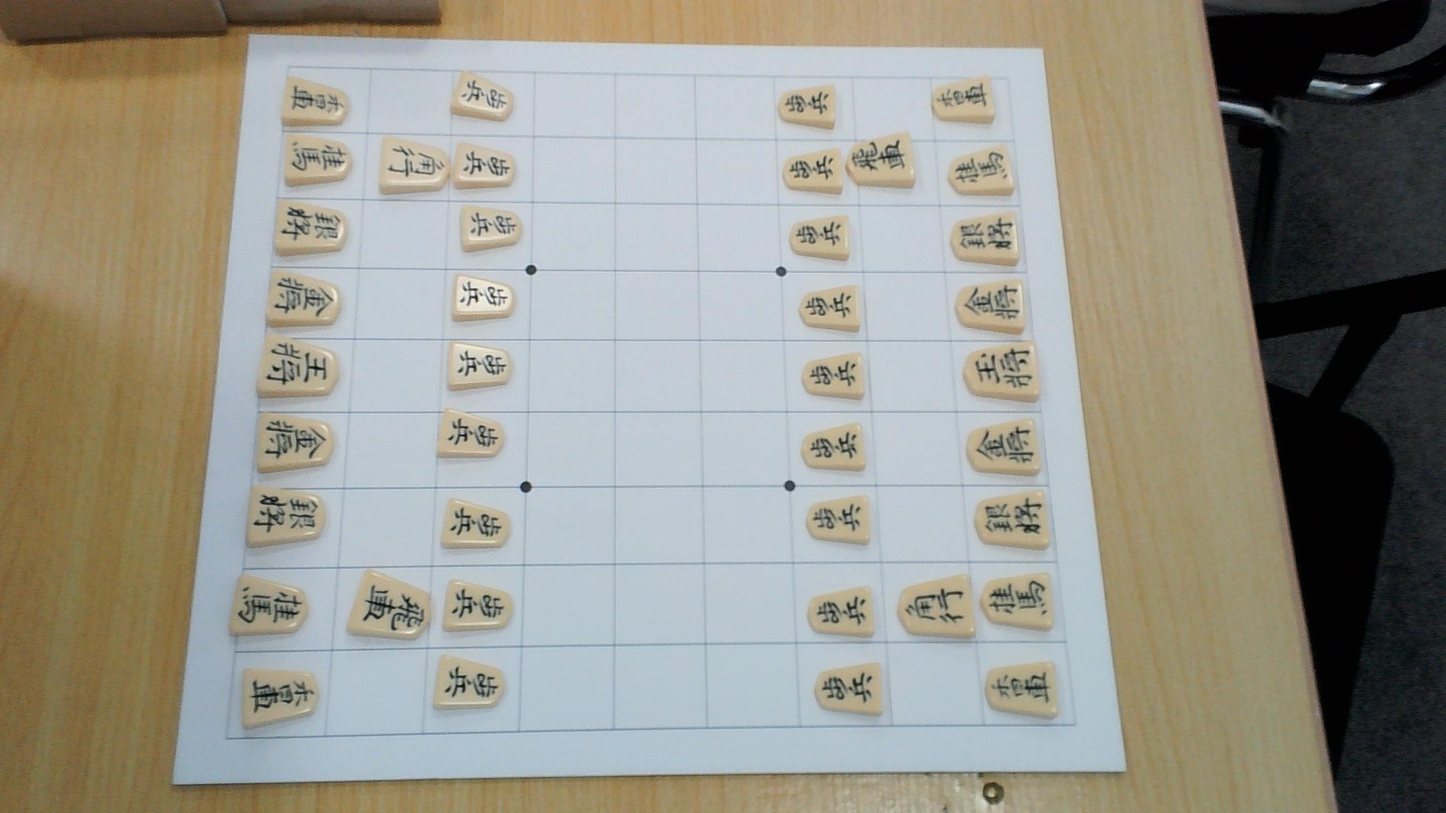board: (225, 66, 1074, 740)
